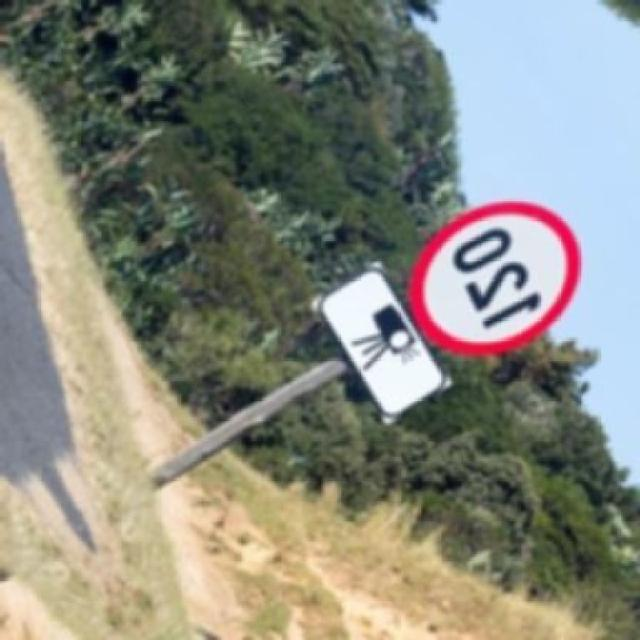forb_speed_over_120: (387, 176, 605, 379), (635, 27, 640, 230)
